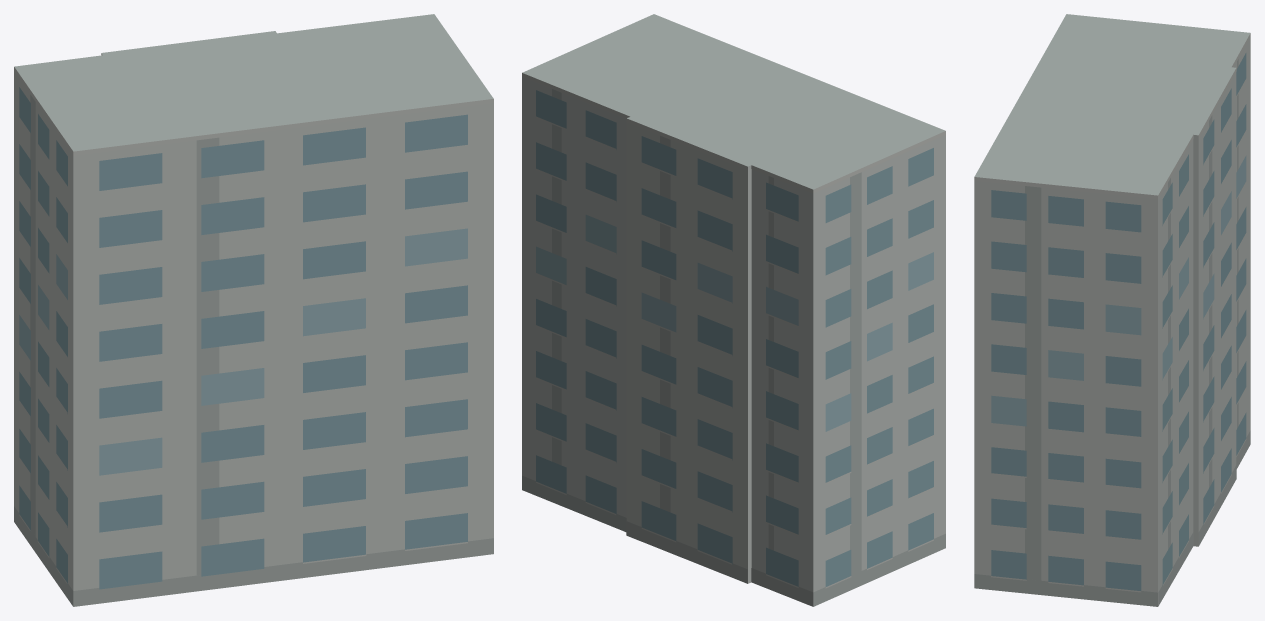
The model's file is survey-upis-32996391.glb.
The picture shows the model from 3 angles, left to right: view 1: azimuth 30°, elevation 25°; view 2: azimuth 150°, elevation 25°; view 3: azimuth 270°, elevation 25°; orthographic projection. The views are drawn at different scales.
Visible parts, largest first — view 1: survey-upis-32996391.tmp; view 2: survey-upis-32996391.tmp; view 3: survey-upis-32996391.tmp.
Part boxes in pixels (<box>): survey-upis-32996391.tmp: <box>14,14,493,606</box>; survey-upis-32996391.tmp: <box>522,14,945,606</box>; survey-upis-32996391.tmp: <box>974,14,1250,606</box>.
Size of the model in its own units: 24.42 by 25.8 by 15.72.
